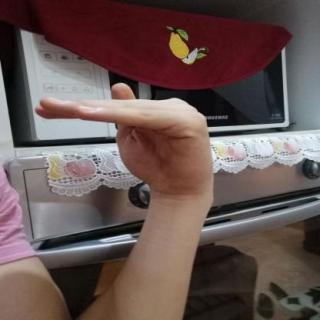KHAA: (18, 74, 226, 209)
